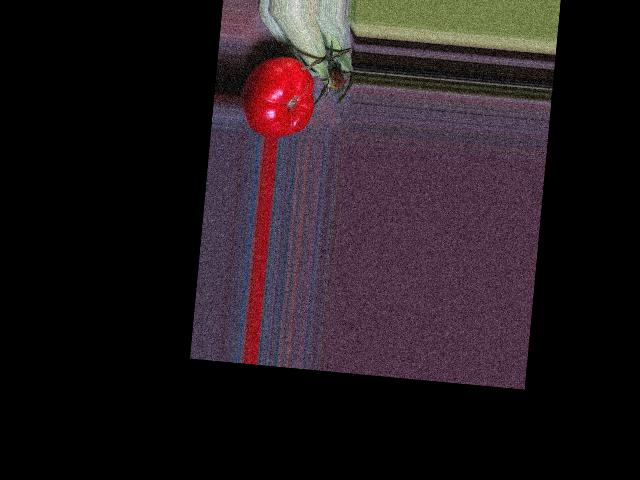tomato: (237, 52, 317, 140)
